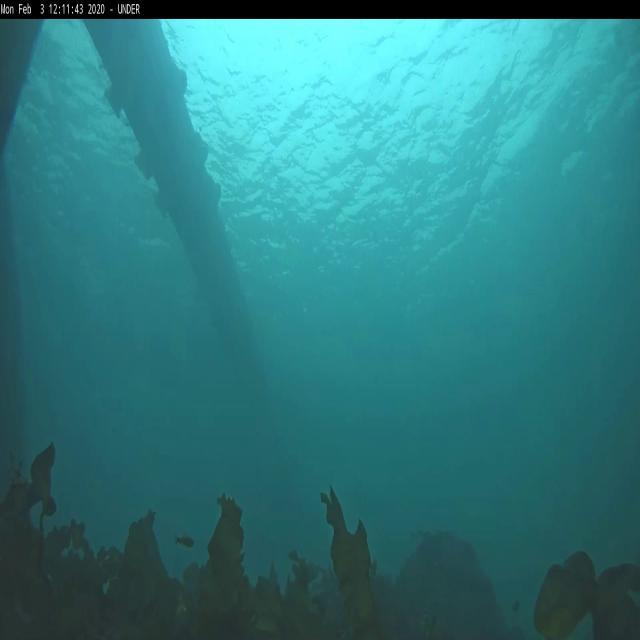fish: (175, 532, 195, 550)
